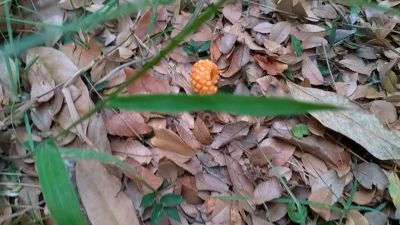eggs: (189, 57, 220, 99)
